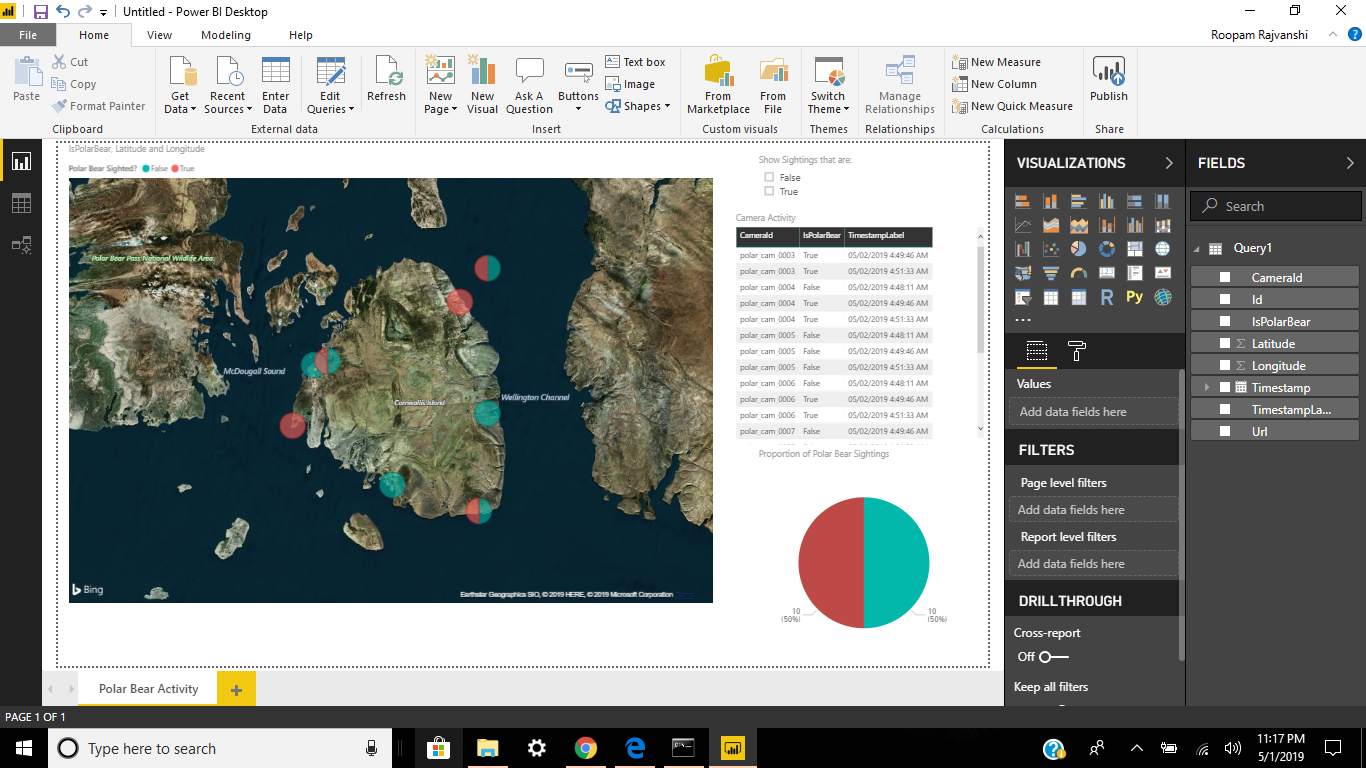

What the dashboard file says about the page in this screenshot:
{"tool":"powerbi","page":{"name":"Polar Bear Activity","canvas":[1280,720],"ordinal":0},"visuals":[{"type":"map","fields":{"X":["Query1.Longitude"],"Y":["Query1.Latitude"],"Series":["Query1.IsPolarBear"]},"box":[9.6,0,896.2,637.4],"z":1},{"type":"tableEx","title":"Camera Activity","fields":{"Values":["Query1.CameraId","Query1.IsPolarBear","Query1.TimestampLabel"]},"box":[927.9,95,352.4,324.9],"z":2},{"type":"pieChart","title":"Proportion of Polar Bear Sightings","fields":{"Category":["Query1.IsPolarBear"],"Y":["CountNonNull(Query1.Latitude)"]},"box":[959.5,419.9,300.1,300.1],"z":3},{"type":"slicer","title":"Show Sightings that are:","fields":{"Values":["Query1.IsPolarBear"]},"box":[959.5,15.1,168,79.8],"z":4}]}

Visuals, with their boxes on the page's 1280x720 design canvas (x1, y1, x2, y2). These are canvas units, not pixel positions in the 1366x768 screenshot, which may show the page scaled, cropped or inside an application window:
map - Query1.Longitude x Query1.Latitude: {"x1": 10, "y1": 0, "x2": 906, "y2": 637}
"Camera Activity" tableEx: {"x1": 928, "y1": 95, "x2": 1280, "y2": 420}
"Proportion of Polar Bear Sightings" pieChart: {"x1": 960, "y1": 420, "x2": 1260, "y2": 720}
"Show Sightings that are:" slicer: {"x1": 960, "y1": 15, "x2": 1128, "y2": 95}
